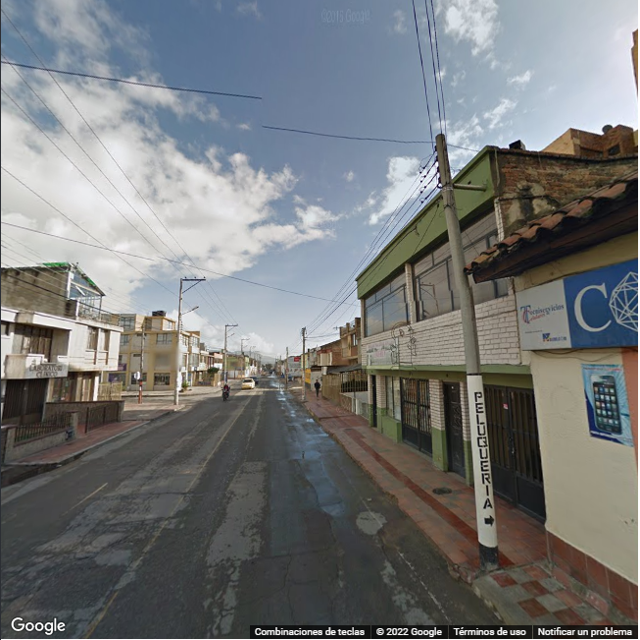D00: (372, 521, 406, 593), (314, 562, 335, 624), (277, 501, 287, 581)
D10: (214, 581, 286, 616), (252, 543, 334, 564)
